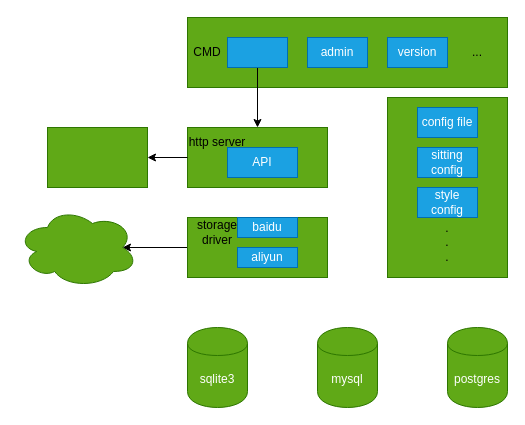
Some shapes in this 525 by 425 pixel diagram are drawn without their labels. Each missing label, with the centre of its shape:
"baiduyun aliyun" belongs at (x=77, y=247).
"server" belongs at (x=257, y=52).
"webui" belongs at (x=97, y=157).
